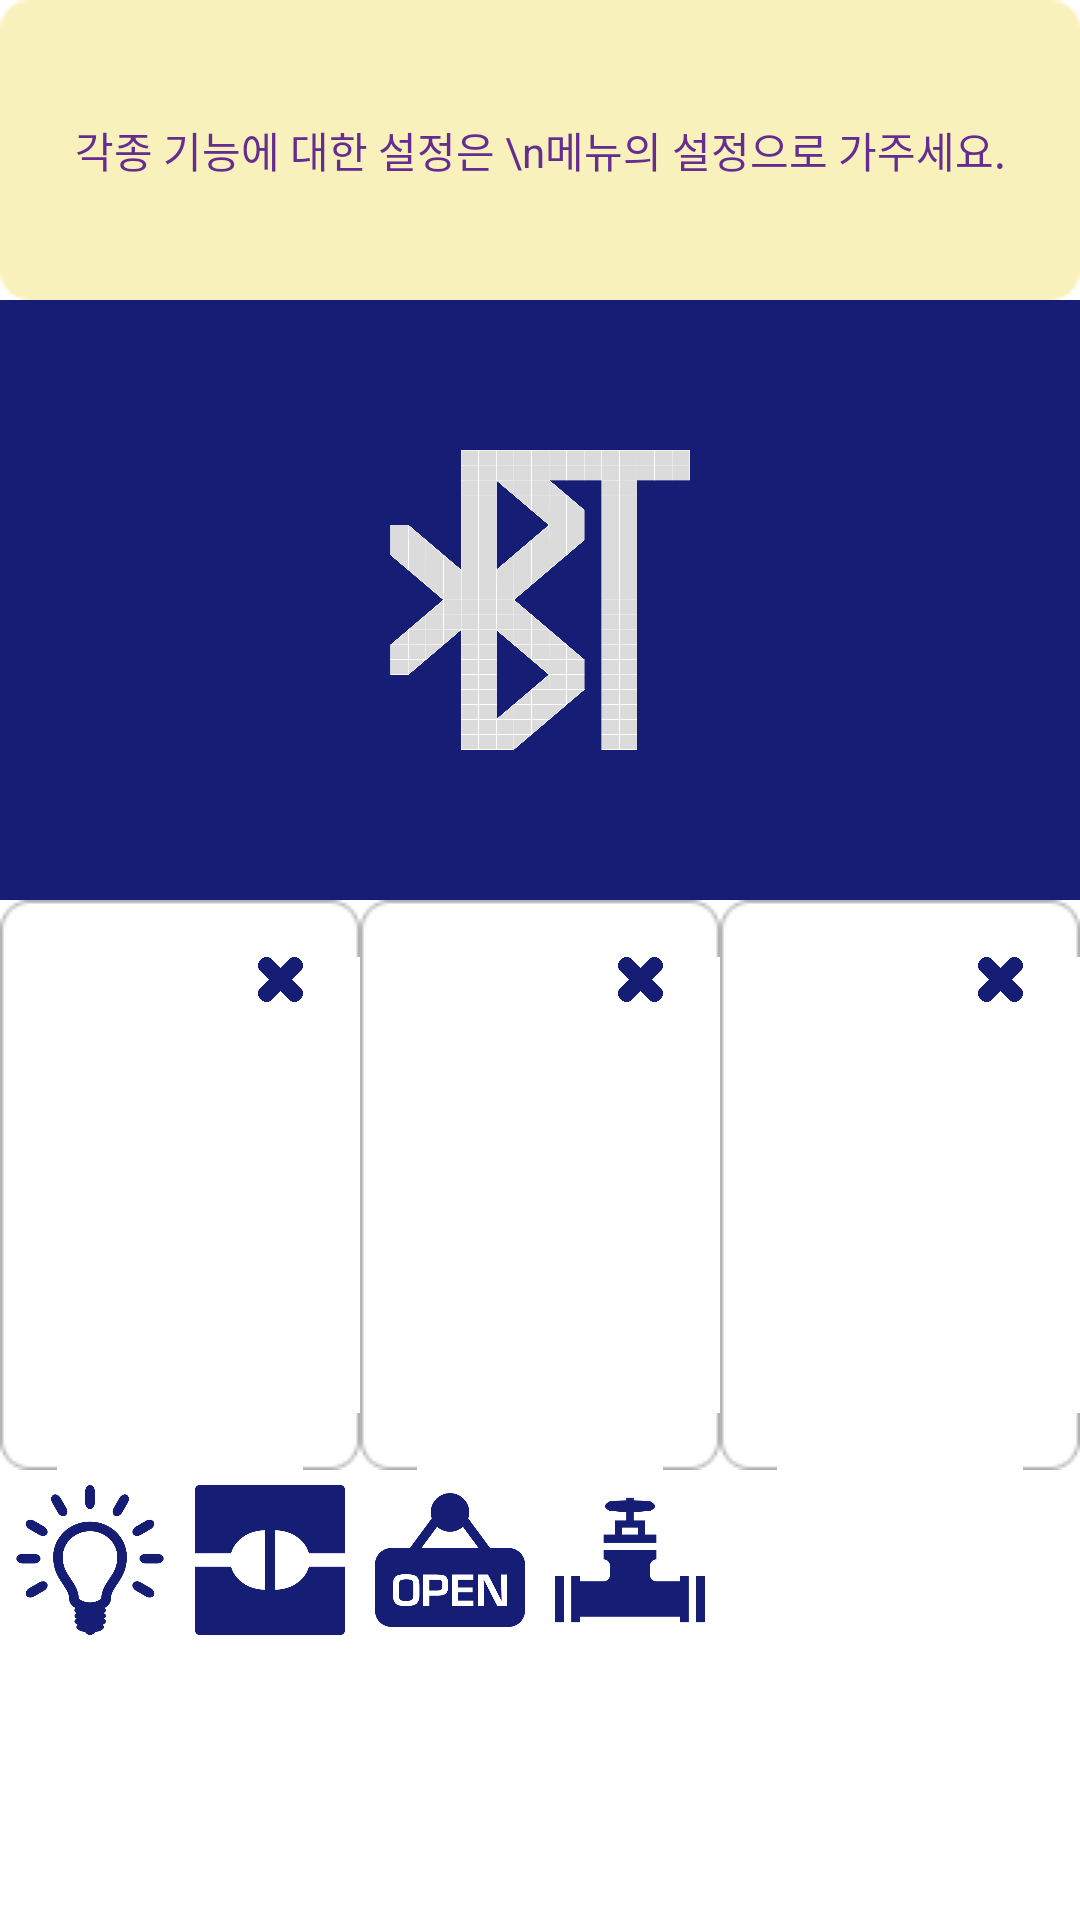

Named icons in this screenshot (1080 x 1920) and their bounding boxes, (x1, y1, x2, y2):
bulb: (16, 1485, 164, 1635)
valve: (555, 1497, 705, 1623)
